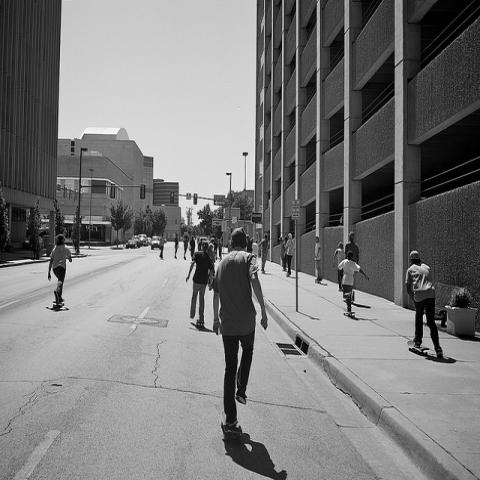car: (125, 239, 136, 249), (139, 235, 148, 247), (132, 235, 140, 247), (153, 236, 160, 246), (164, 236, 168, 244)
